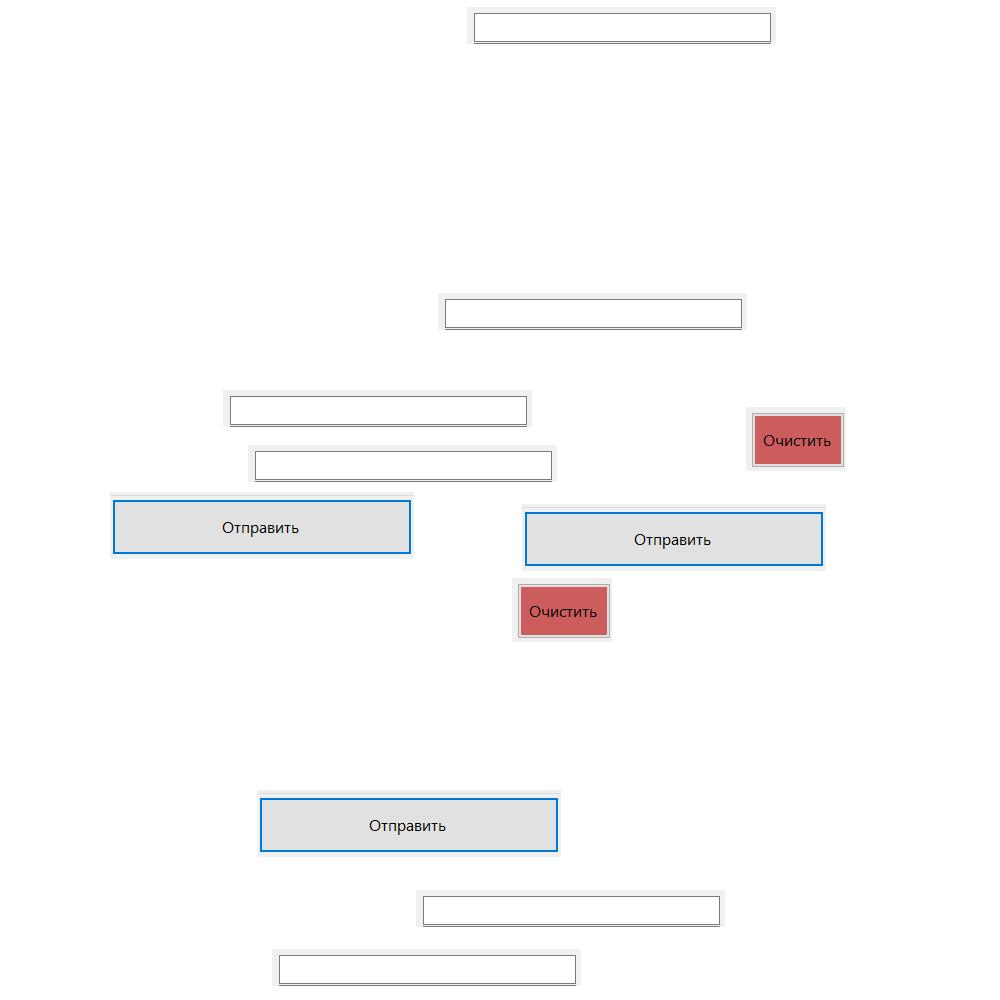Button: (257, 790, 561, 857), (522, 504, 826, 571), (110, 492, 414, 559), (746, 407, 846, 471), (512, 578, 612, 642)
EditText-: (438, 293, 747, 330), (272, 949, 581, 986), (248, 445, 557, 482), (467, 7, 776, 44), (416, 890, 725, 927), (223, 390, 532, 427)
